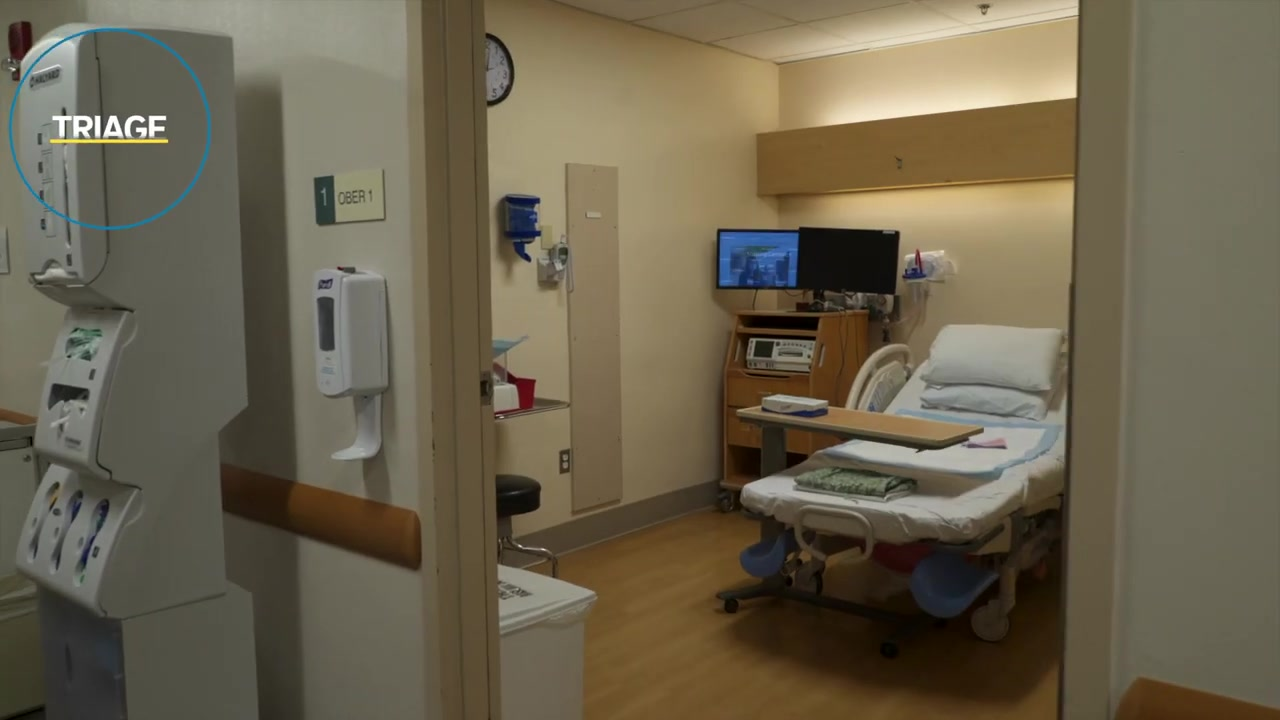bedrail: (844, 344, 915, 411)
bedside_monitor: (797, 226, 901, 295), (717, 228, 797, 290)
chair: (496, 474, 557, 578)
dispenser: (306, 272, 387, 465), (504, 193, 542, 262)
hospital_bed: (739, 323, 1069, 649)
overbed_table: (716, 393, 984, 659)
telephone: (543, 232, 573, 285)
waste_bin: (498, 563, 598, 720)
